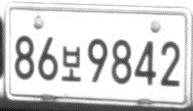2: (160, 40, 179, 87)
4: (134, 39, 156, 87)
6: (37, 36, 58, 80)
8: (14, 34, 35, 80), (110, 39, 131, 84)
9: (86, 37, 109, 83)
보: (61, 45, 82, 83)
